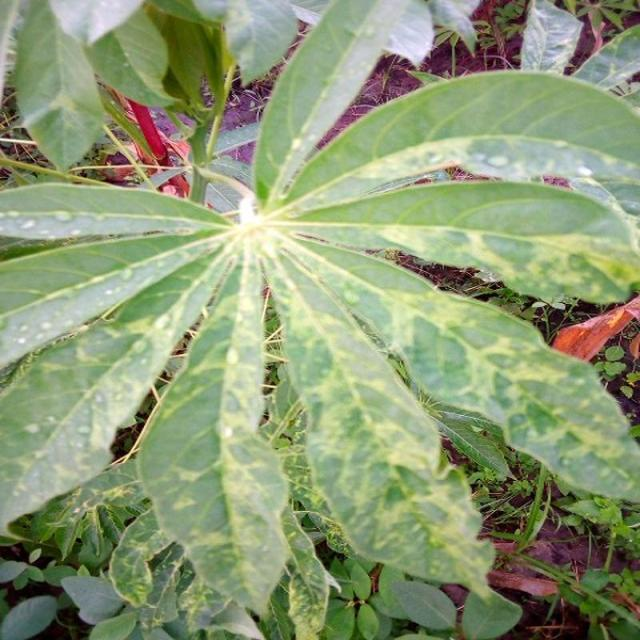cassava leaf: (1, 1, 638, 634)
